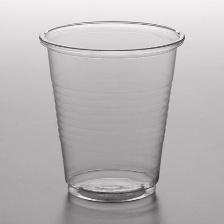glass: (35, 16, 190, 212)
